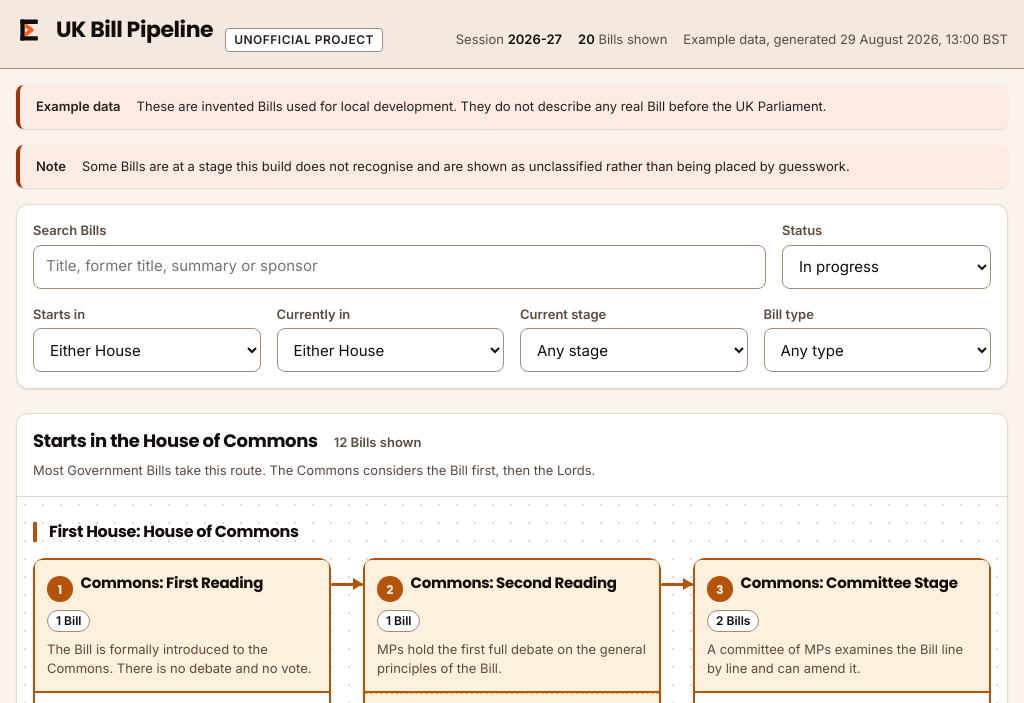
Scenario: filters › clears everything with Clear all
Check: the heading "Starts in the House of Commons" is shown, box [33,430,318,452]
Select "All in session" in the dropdown labelled "Status": (886, 266) [782,244,991,288]
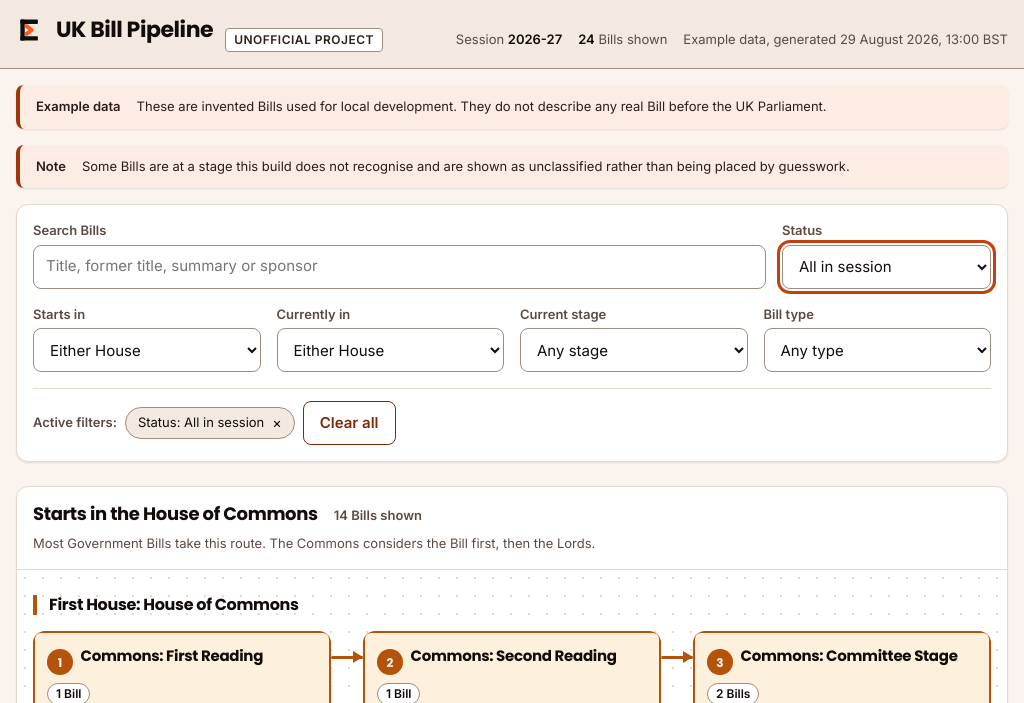
Click the button "Clear all": (349, 423) [303,401,396,445]
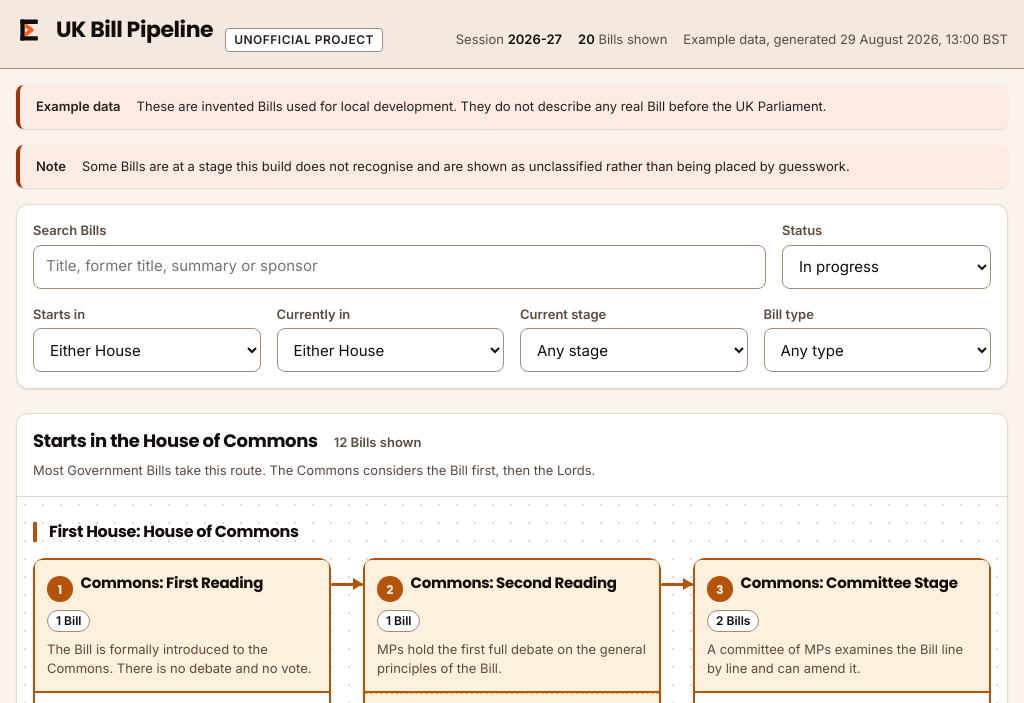
Check: the button "Clear all" is gone
